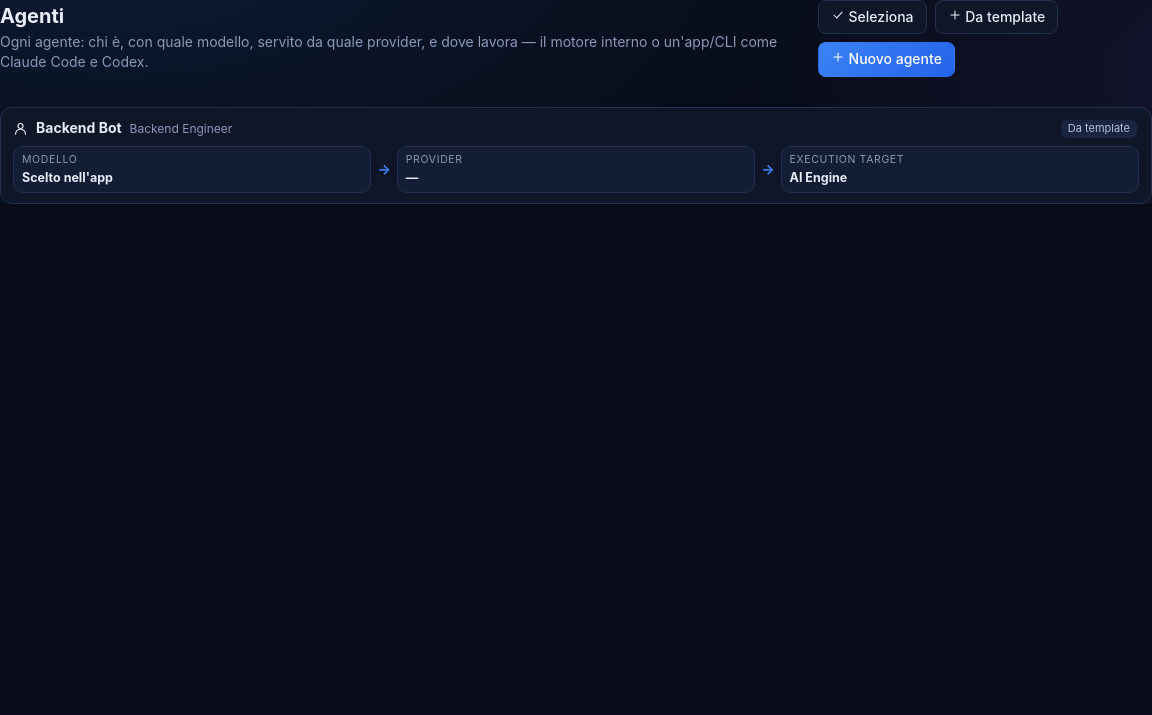
Agents — deleting (ADR-035 §2) › cancelling leaves everything as it was
What coordinates should you click on to do the following:
click the button "Backend Bot"
I would click on:
 (576, 155)
Its box is [0,107,1151,204].
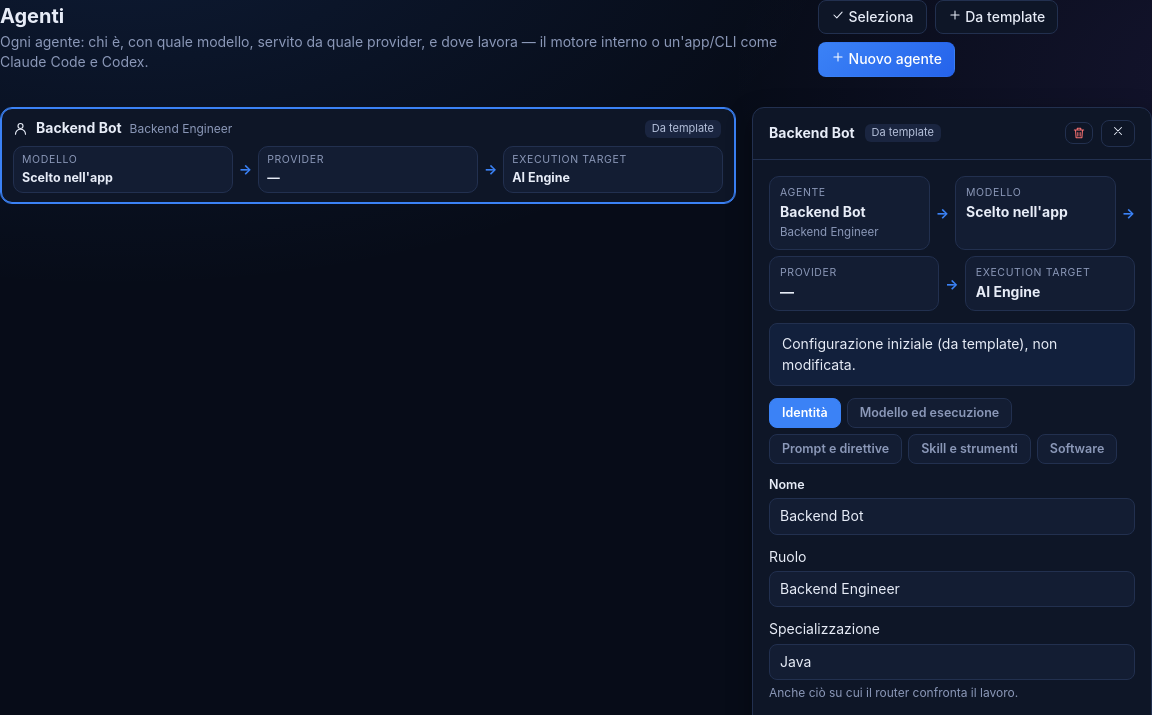
What coordinates should you click on to do the following:
click the button named "Elimina Backend Bot"
I would click on:
 (1079, 133)
Its box is [1065,122,1093,144].
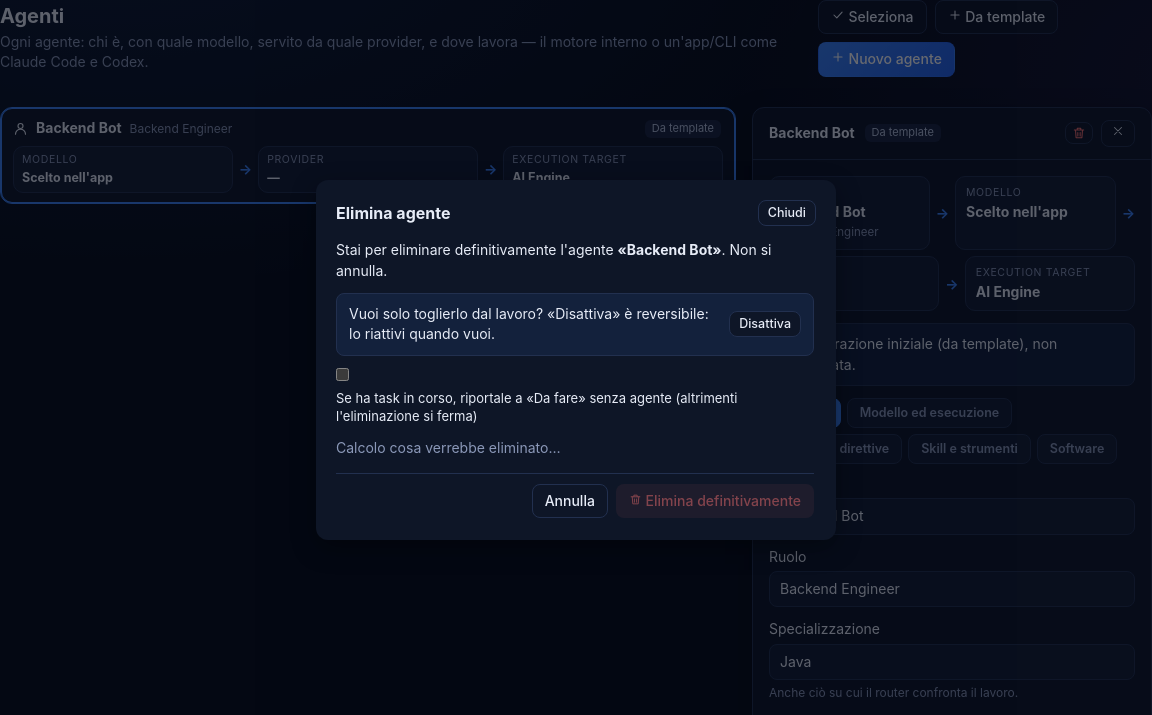
What coordinates should you click on to do the following:
click the button "Annulla"
I would click on:
 (570, 501)
Its box is [532,484,608,518].
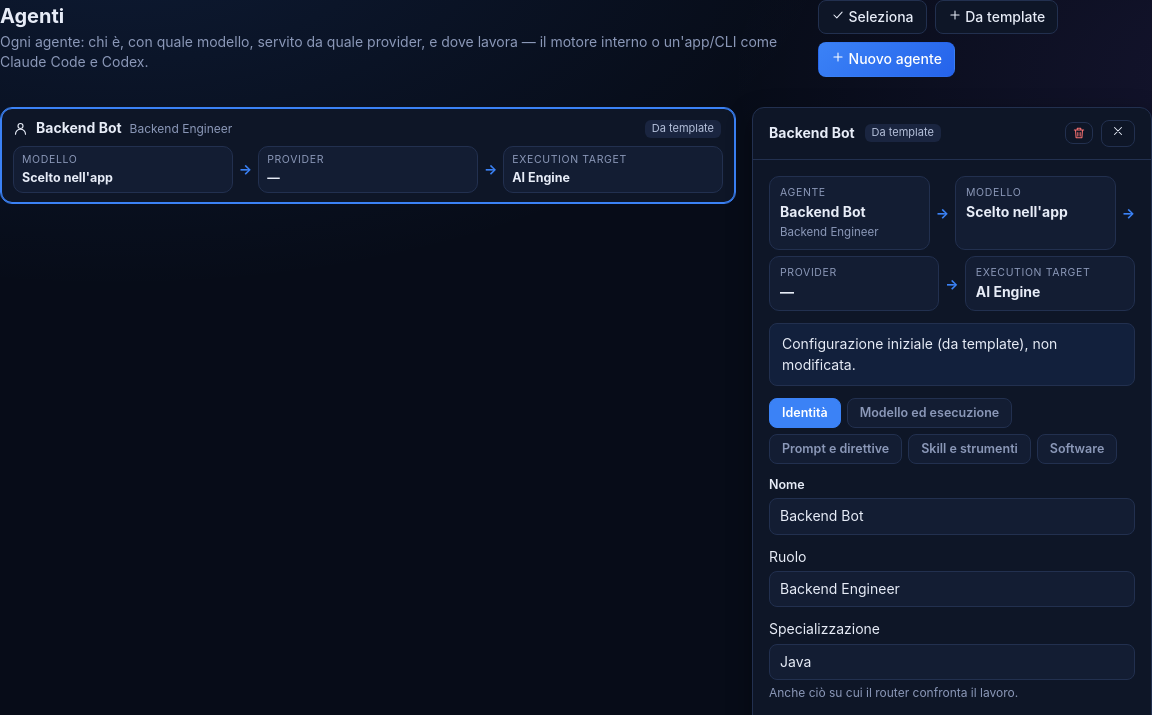
Now the button named "Elimina Backend Bot" is shown, box [1065,122,1093,144]
Now the dialog is gone
